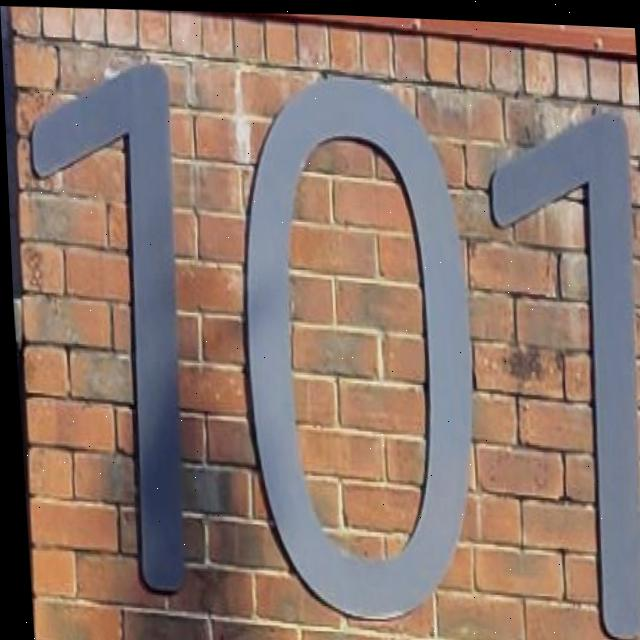character: (224, 66, 493, 637), (21, 51, 205, 604), (481, 97, 640, 640)
